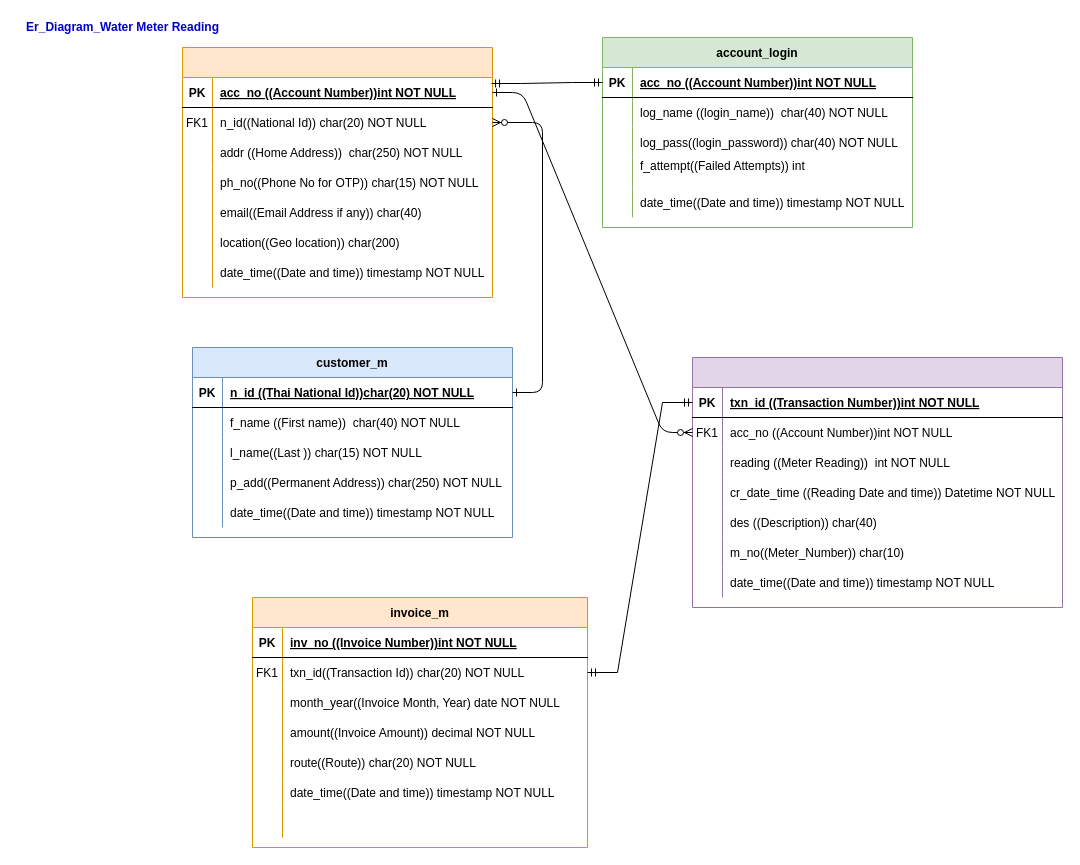
Image size: 1080x865. Some labels were removed from this diagram. The box of each missing label's shape, as (x1, y1, x2, y2) in pixels:
account_m: (182, 46, 492, 298)
water_t: (692, 356, 1062, 608)
